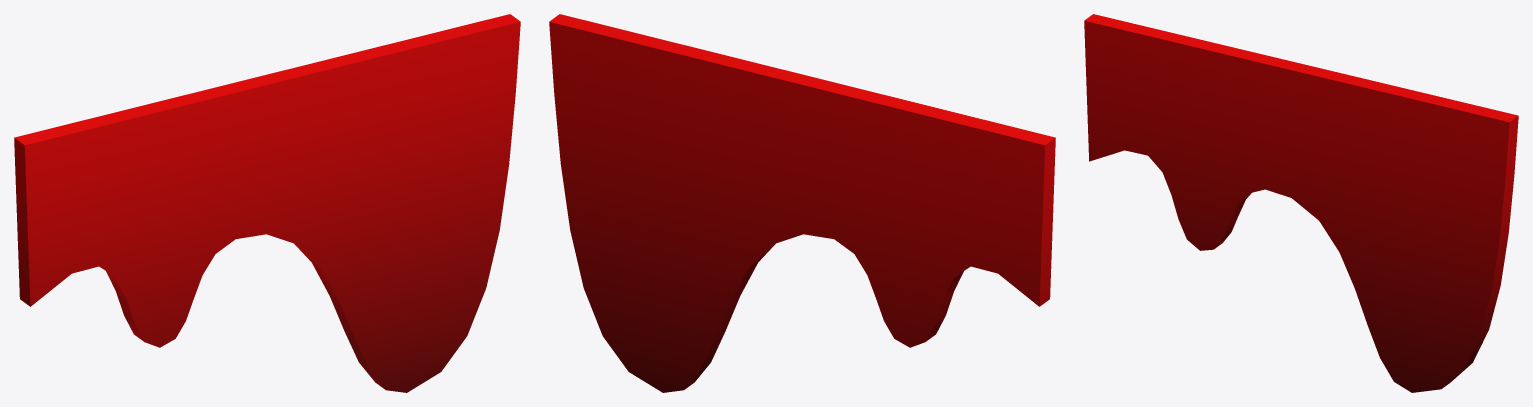
The model's file is Blood_004.FBX.
3 views of the same model, side by side, from view 1: azimuth 30°, elevation 25°; view 2: azimuth 150°, elevation 25°; view 3: azimuth 330°, elevation 25° (orthographic). The views are drawn at different scales.
Parts seen in each view (by area): view 1: Blood_004; view 2: Blood_004; view 3: Blood_004.
Part boxes in pixels (x1=…): Blood_004: x1=14, y1=14, x2=520, y2=392; Blood_004: x1=549, y1=14, x2=1055, y2=392; Blood_004: x1=1084, y1=14, x2=1518, y2=392.
Bounding box in the file's own units: 13.5 × 8.93 × 0.5.
1 material, 1 textured.
